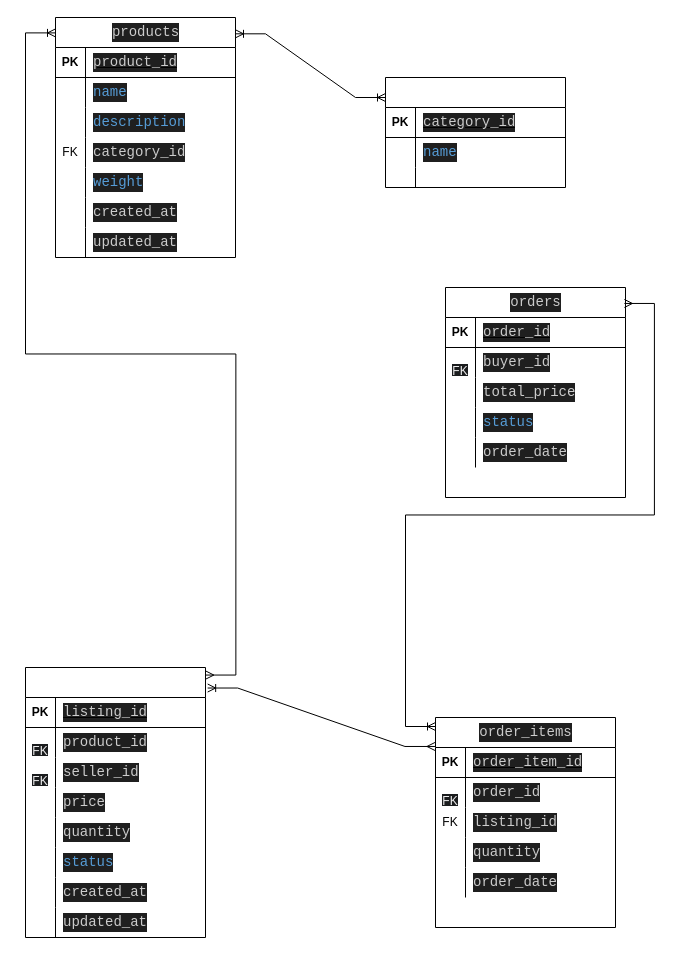
The diagram is 681 pixels wide and 955 high, and some of its shapes have lost their labels. The box of each missing label's shape, as (x1, y1, x2, y2) in pixels:
categories: (384, 76, 566, 188)
listings: (24, 666, 206, 938)
